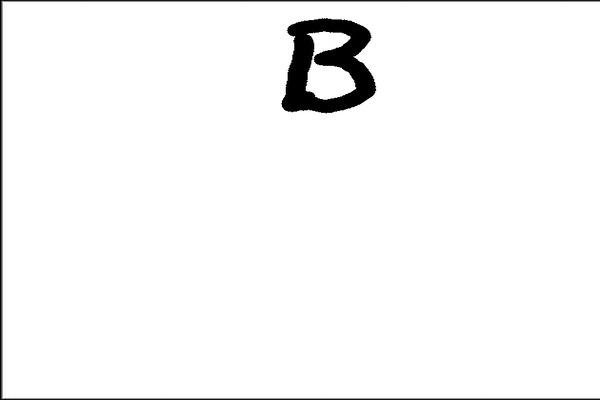B: (280, 10, 381, 117)
